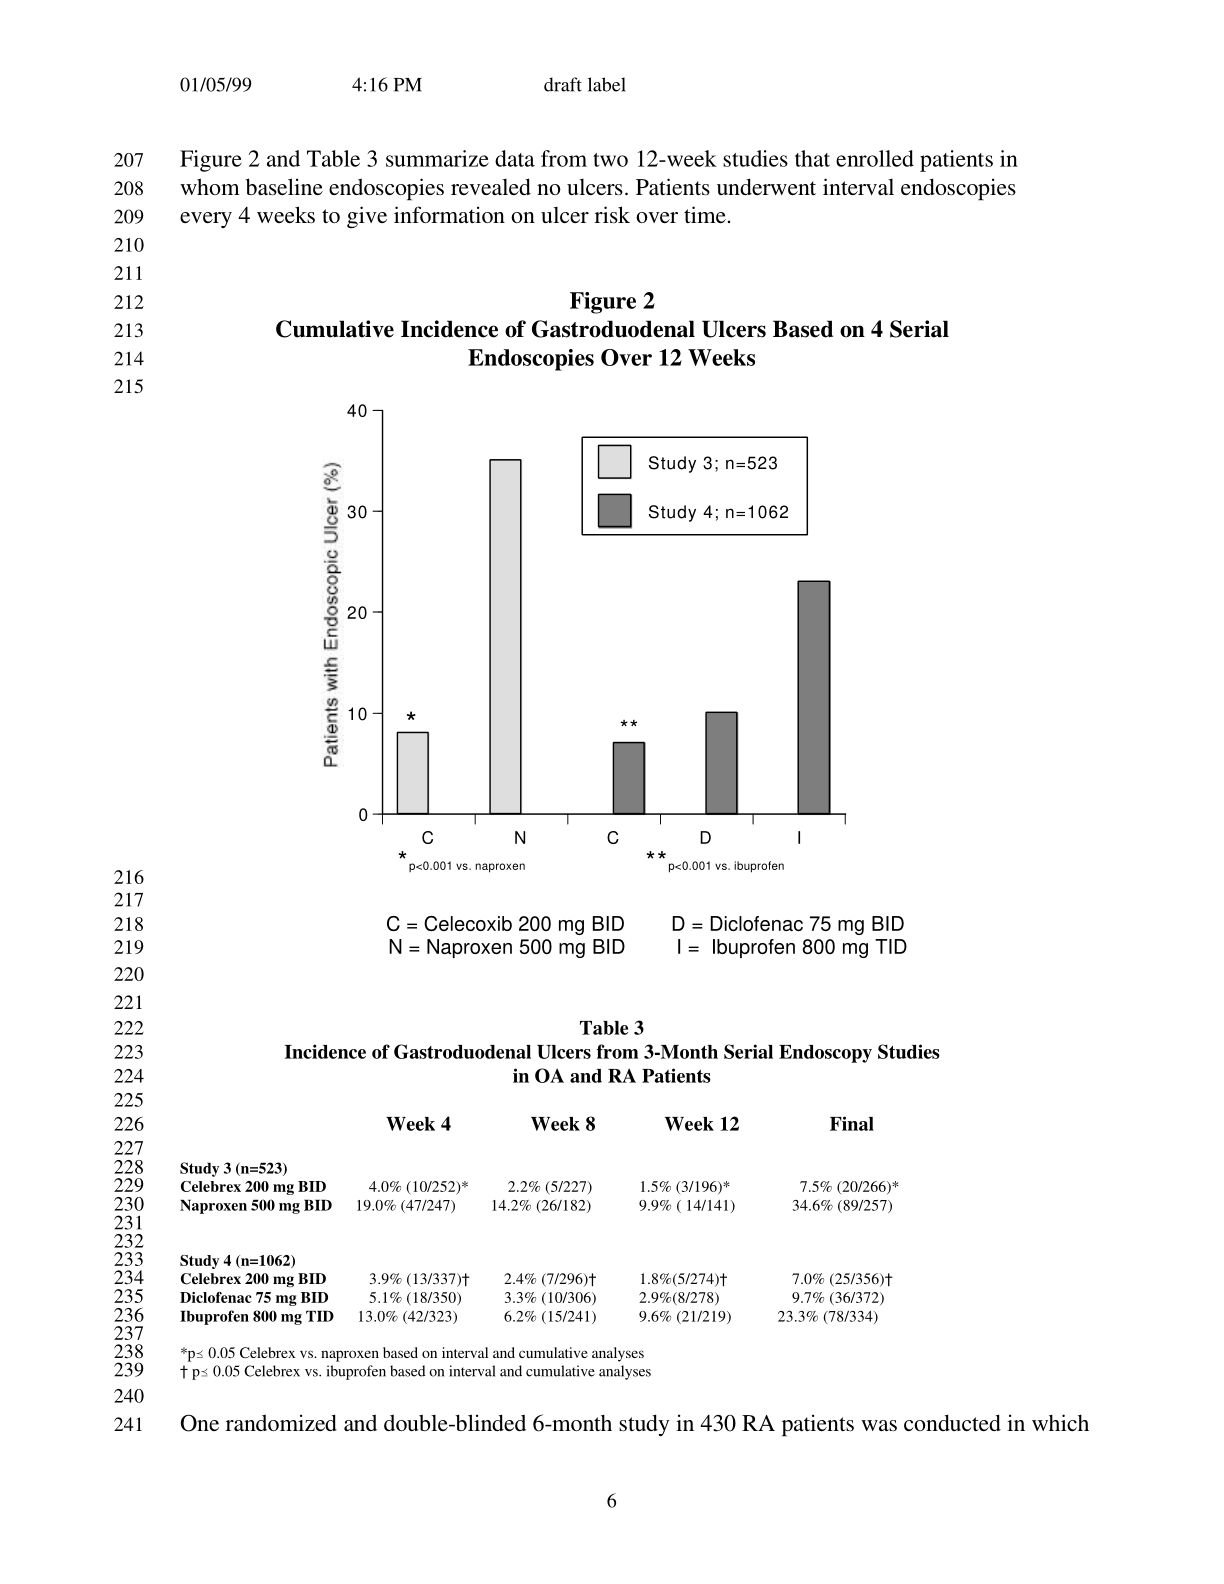nolines: (177, 1113, 900, 1331)
